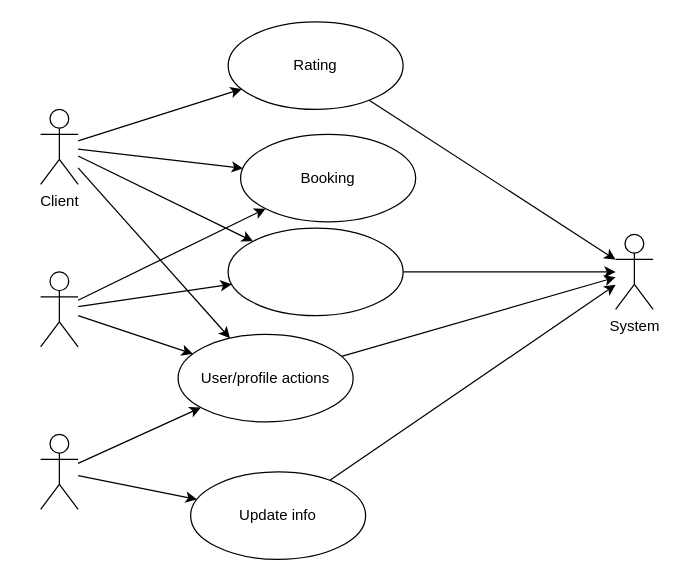
The diagram is 681 pixels wide and 581 high, and some of its shapes have lost their labels. The shapes that lost their labels are listed below. From the top down, each one's box as (x1, y1, x2, y2) in pixels, then its label:
(227, 227, 403, 316): Customer support
(39, 271, 78, 347): Staff
(39, 433, 78, 509): Web Admin
